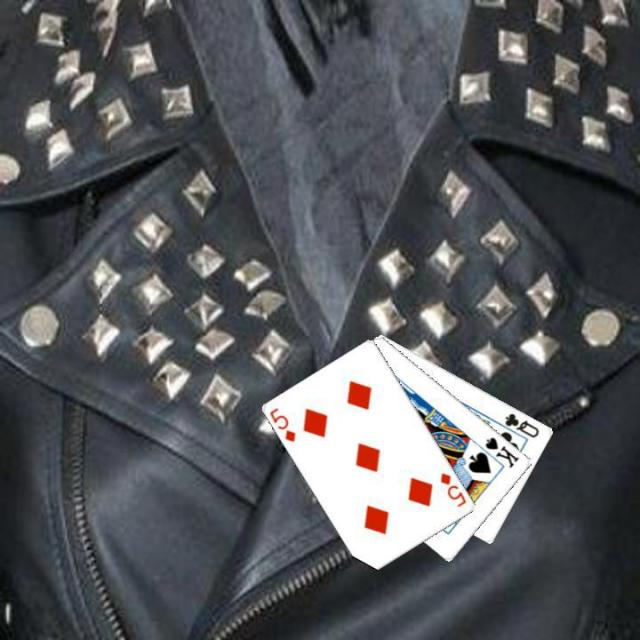5D: (436, 468, 468, 509), (266, 404, 298, 444)
KS: (482, 433, 521, 469)
QC: (502, 409, 542, 440)
